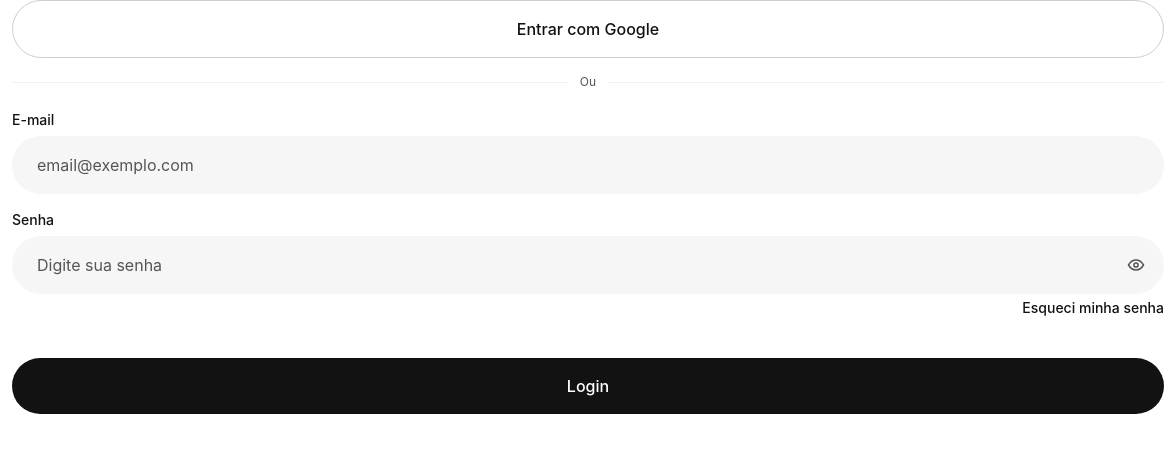
Test case: SignInForm › shows the invalid password returned by the action
In the field labelled "E-mail": (588, 165) [12, 136, 1164, 194], type "person@example.com"
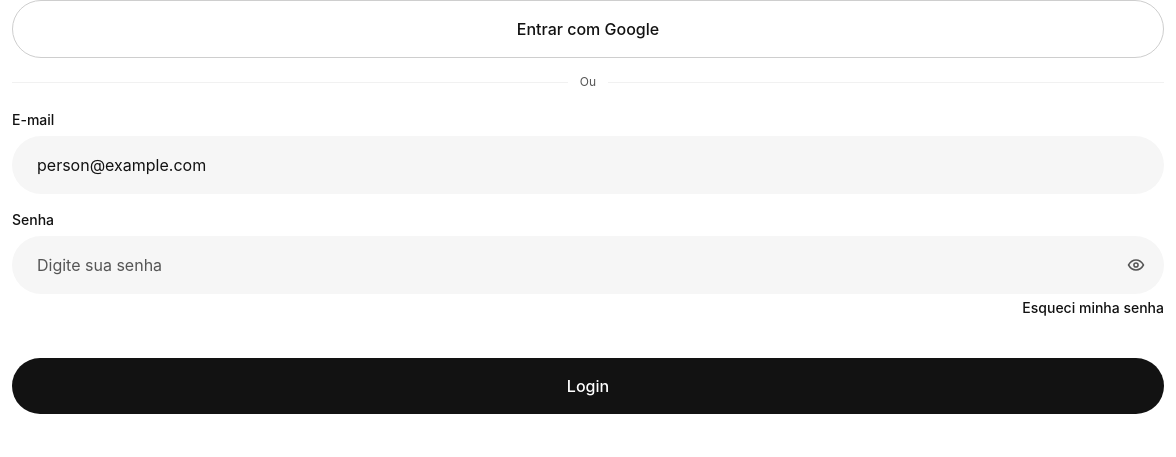
Click the button "Login": (588, 386) [12, 358, 1164, 414]
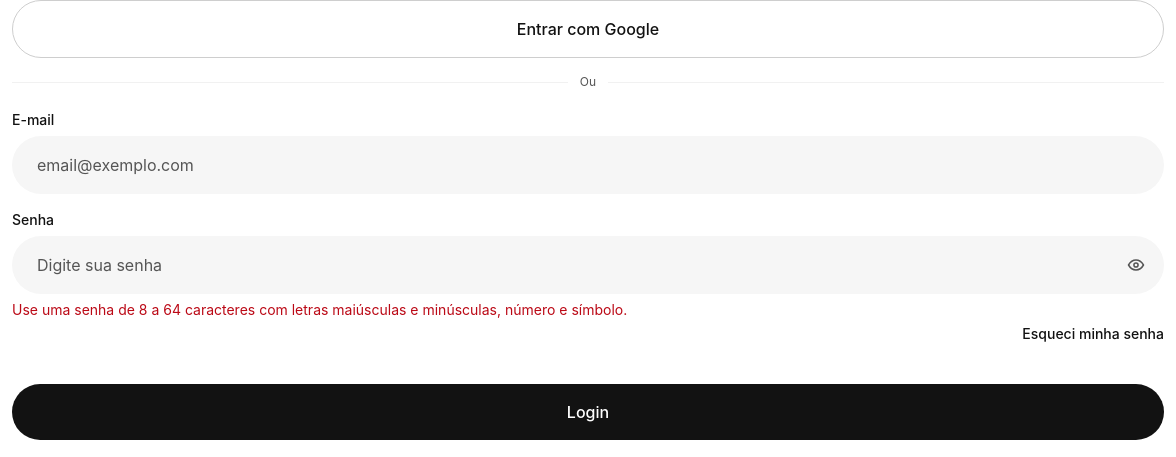
Expected: the text "Use uma senha de 8 a 64 caracteres com letras maiúsculas e minúsculas, número e símbolo." is shown, [12, 301, 627, 318]
